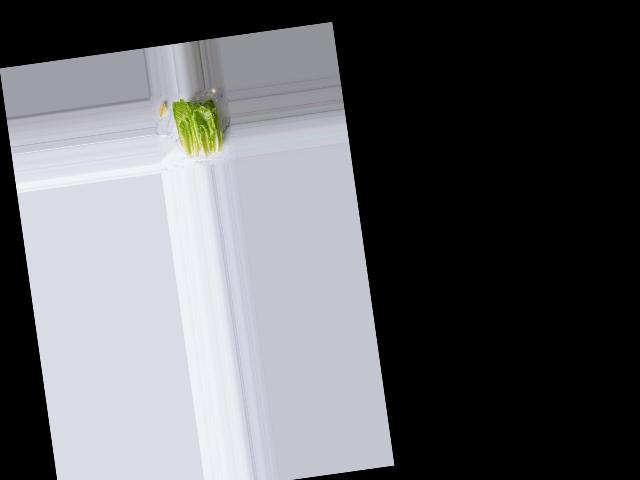lettuce: (169, 93, 226, 160)
